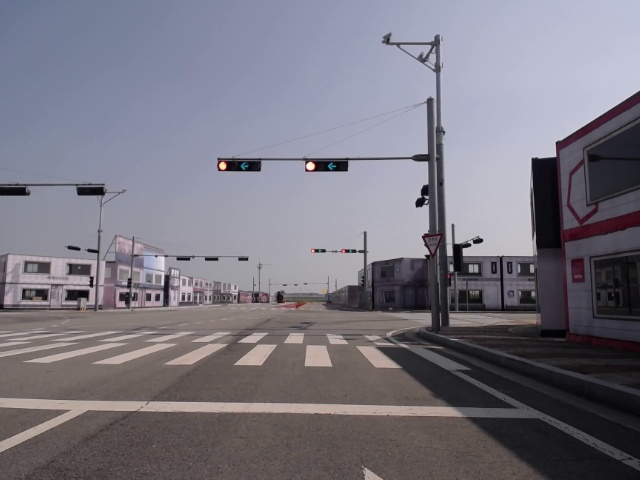left_green_4: (304, 161, 348, 172), (218, 160, 261, 171), (311, 248, 326, 253), (341, 249, 356, 253)
